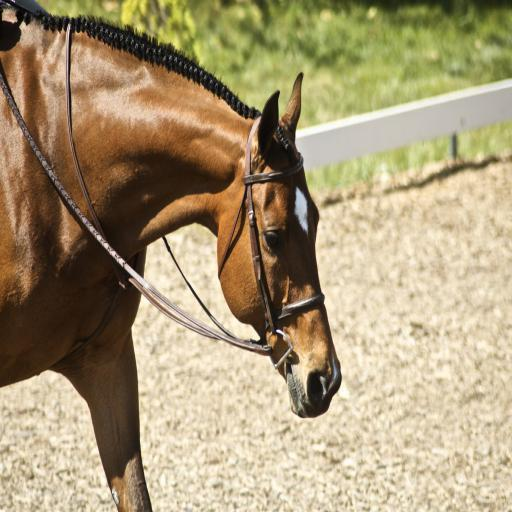horse: (0, 0, 343, 512)
